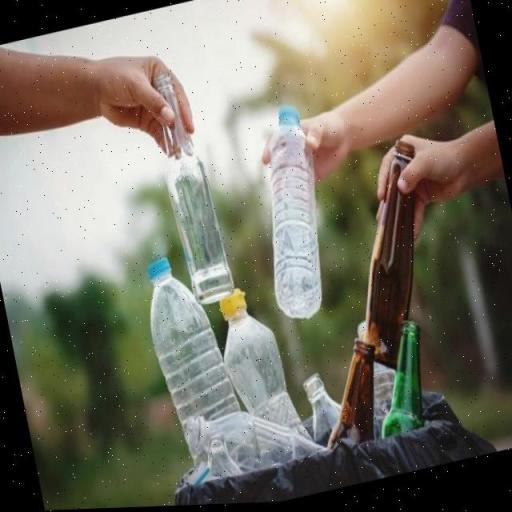plastic: (135, 243, 248, 464), (239, 102, 344, 332), (208, 276, 308, 452), (180, 384, 333, 490)
